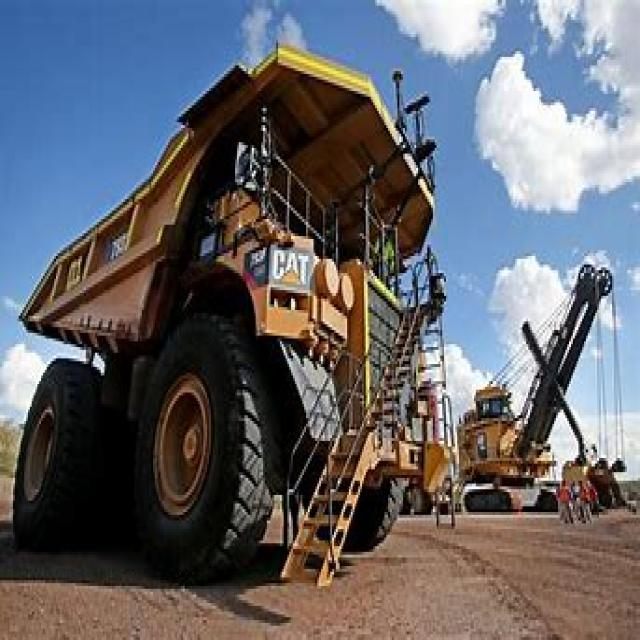dump_truck: (22, 34, 452, 578)
